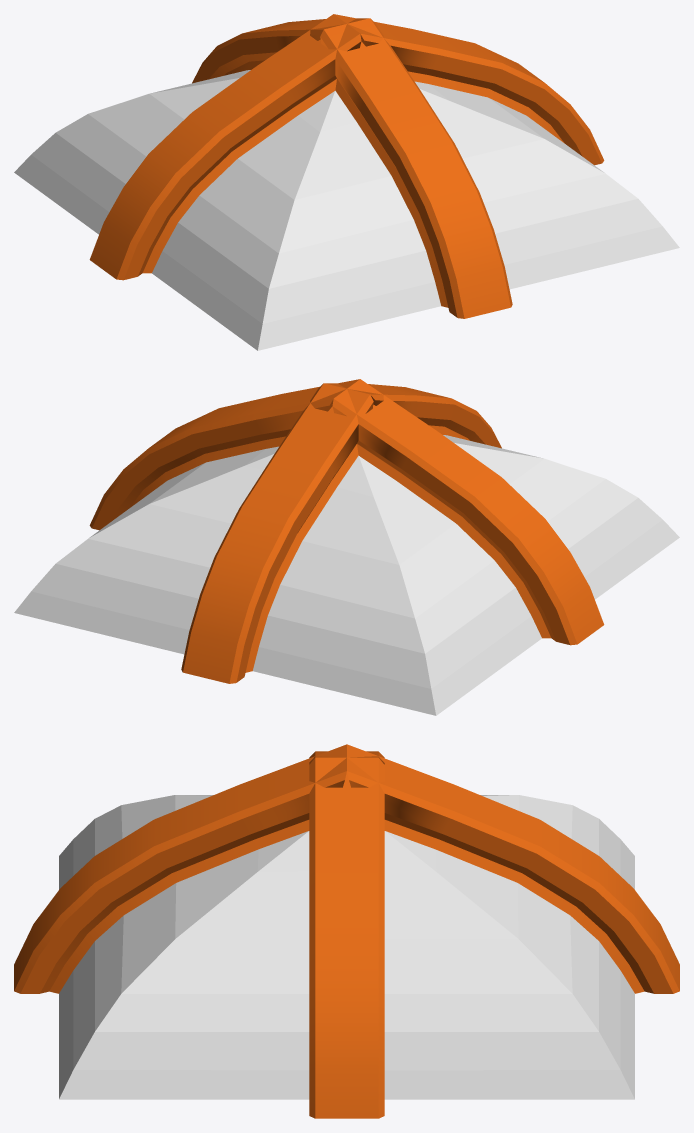
Rendered from domedceiling.fbx.
3 renders of one model, top to bottom at view 1: azimuth 30°, elevation 25°; view 2: azimuth 150°, elevation 25°; view 3: azimuth 270°, elevation 25°, orthographic. The views are drawn at different scales.
Visible parts, largest first — view 1: Cube, Arch_1a, Arch_1a.001; view 2: Cube, Arch_1a, Arch_1a.001; view 3: Cube, Arch_1a.001, Arch_1a.
Part boxes in pixels (bbox=[...]): Cube: bbox=[14, 70, 679, 350]; Arch_1a: bbox=[89, 14, 604, 280]; Arch_1a.001: bbox=[192, 18, 512, 318]; Cube: bbox=[14, 435, 679, 715]; Arch_1a: bbox=[89, 379, 604, 645]; Arch_1a.001: bbox=[181, 383, 501, 683]; Cube: bbox=[59, 795, 634, 1099]; Arch_1a.001: bbox=[14, 744, 679, 993]; Arch_1a: bbox=[309, 751, 384, 1118].
Size of the model in its own units: 641 by 234 by 641.
